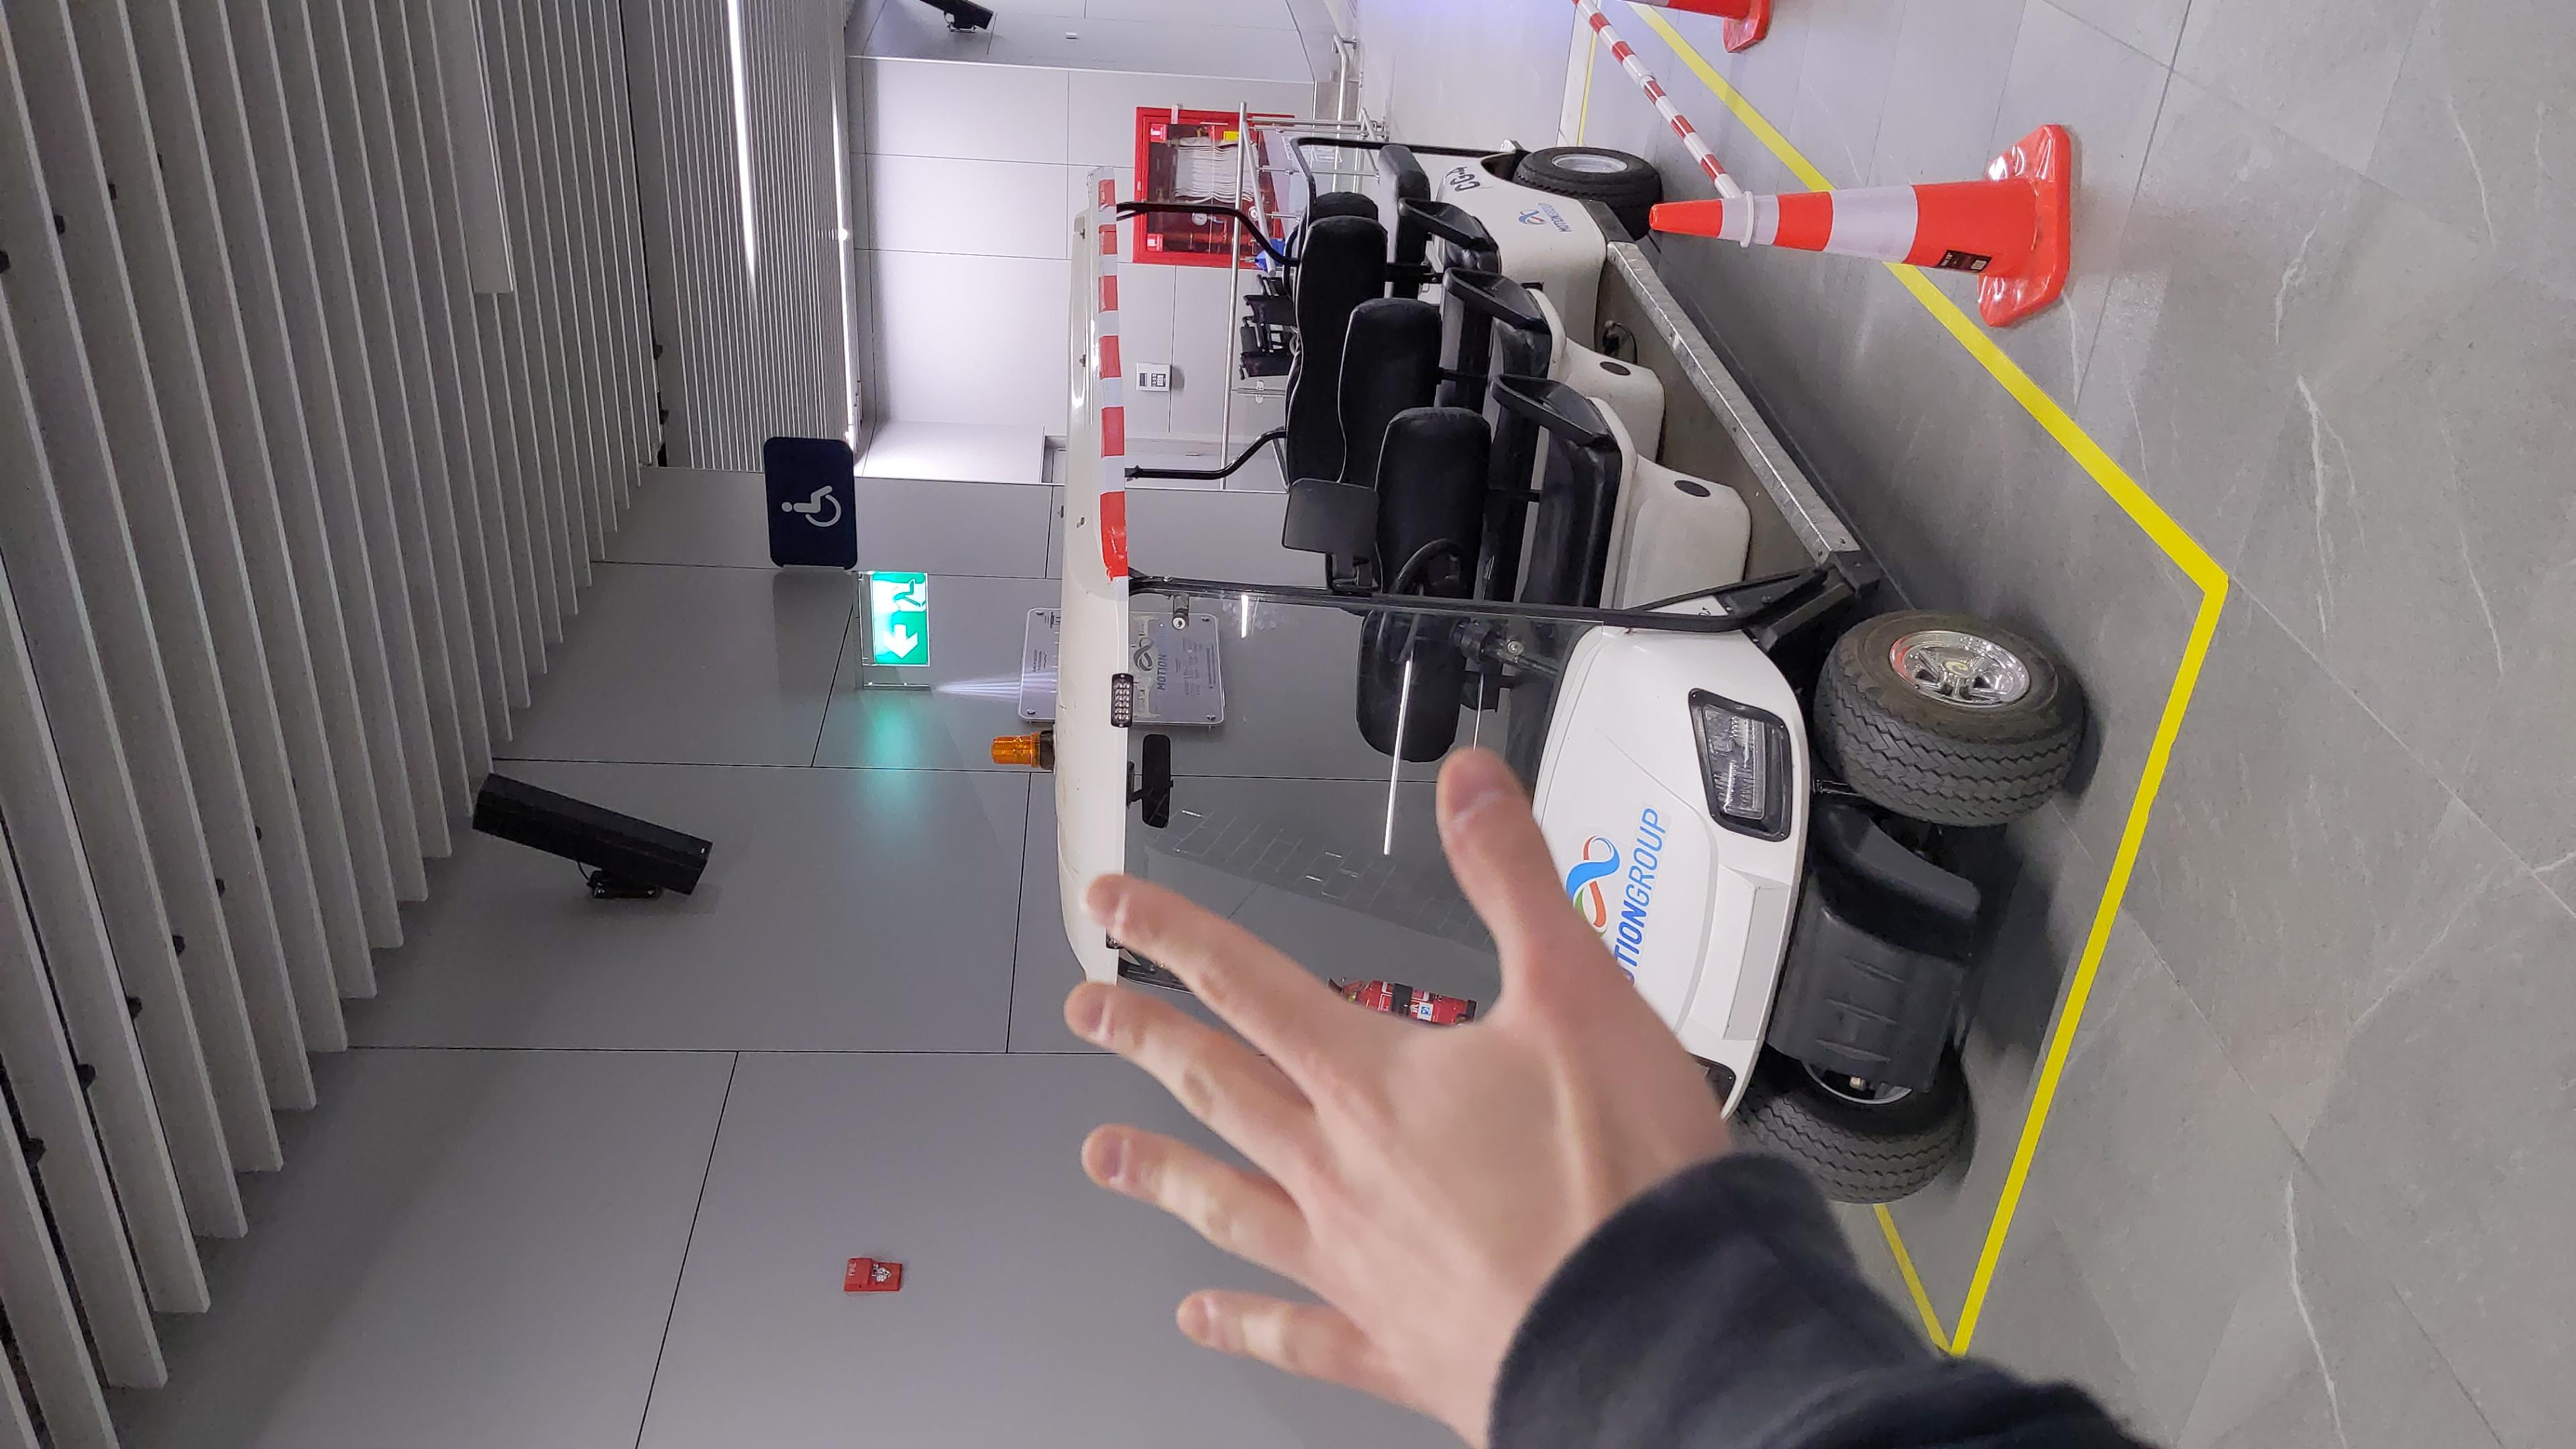emergency exit: (1481, 490, 1555, 522)
emergency left arrow: (1401, 494, 1479, 518)
extinguisher symbol: (2330, 646, 2353, 653)
fire-extinguisher: (2316, 672, 2357, 708)
handicapped symbol: (1624, 439, 1727, 474)
